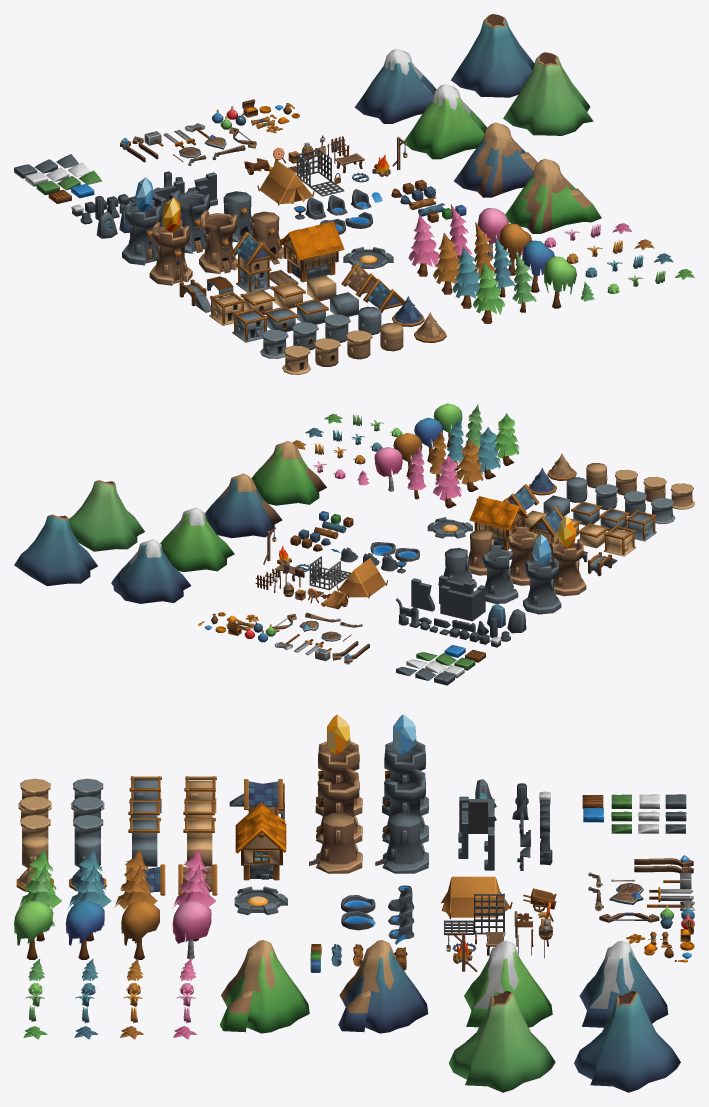
The model's file is Low_poly_game_pack.glb.
3 views of the same model, one above another, from view 1: azimuth 30°, elevation 25°; view 2: azimuth 150°, elevation 25°; view 3: azimuth 270°, elevation 25° (orthographic). The views are drawn at different scales.
Parts seen in each view (by area): view 1: unnamed (×49); view 2: unnamed (×49); view 3: unnamed (×38).
Boxes of the visible parts, left/top/right/bottom form: unnamed (×49): left=122, top=14, right=601, bottom=374; unnamed (×49): left=14, top=403, right=694, bottom=621; unnamed (×38): left=14, top=714, right=680, bottom=1092.
Size of the model in its own units: 137 by 21.41 by 133.
1 material, 1 textured.
